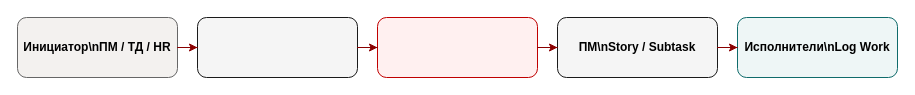
This 915x95 diagram has some shape labels left out. The shapes that lost their labels are listed below. From the top down, each one's centre as x and y in pixels, then its label:
At [277,47]: "Согласующий\nАккаунт / ОД / ГД".
At [457,47]: "Финансы\nEpic".
